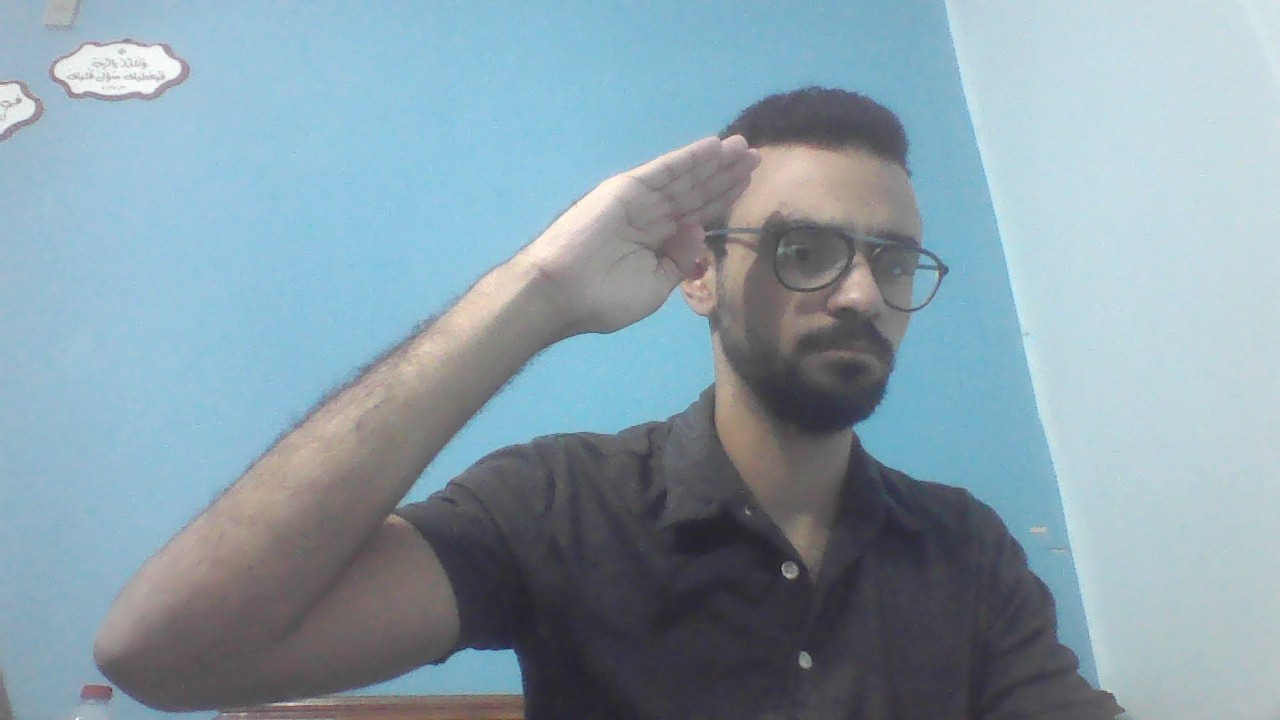hello: (95, 135, 764, 690)
